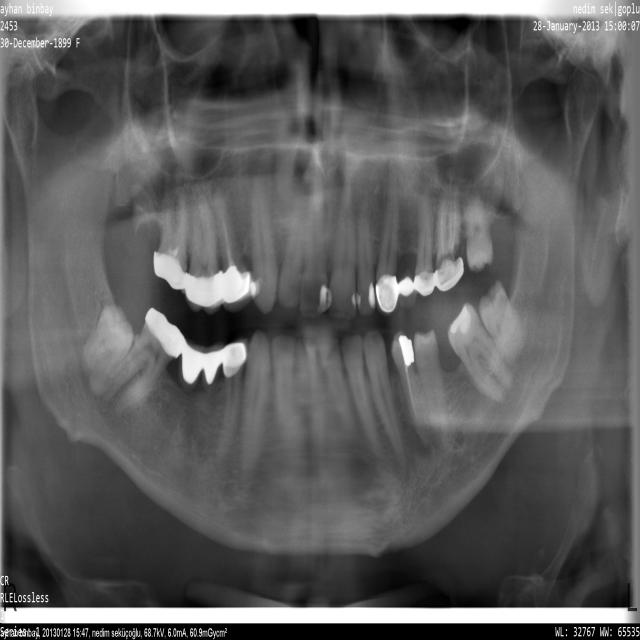Canine: (364, 331, 406, 478), (242, 331, 270, 472), (376, 156, 399, 314), (253, 175, 277, 314)
Incisores: (312, 325, 368, 459), (340, 335, 385, 458), (278, 154, 311, 308), (301, 143, 328, 316), (328, 176, 357, 321), (298, 340, 325, 479), (358, 179, 375, 315), (272, 336, 293, 437)
Premolars: (214, 188, 252, 310), (391, 332, 428, 447), (415, 331, 448, 449), (218, 340, 247, 462), (399, 180, 417, 310), (415, 179, 434, 294), (201, 346, 223, 437)
molars: (102, 310, 183, 415), (448, 304, 515, 401), (82, 305, 133, 394), (184, 195, 222, 314), (479, 281, 523, 363), (168, 343, 207, 433), (156, 186, 186, 292), (436, 185, 460, 287), (466, 194, 493, 272), (131, 182, 156, 239)
